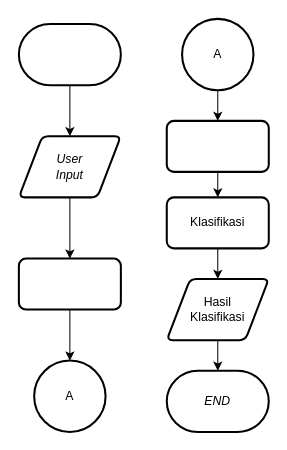
Image size: 287x450. Some labels were removed from this diagram. Each missing label, with the centre of its shape:
Ekstraksi Fitur: (217,145)
Preprocessing: (69,283)
START: (69,54)
